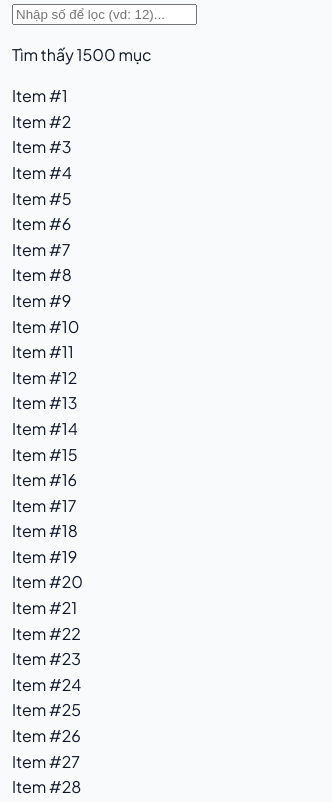
Test: 15 React Hooks + TypeScript Concise Demos › 09. useTransition: lọc danh sách 1500 items không chặn input
Expected: the text "Tìm thấy 1500 mục" is shown, [12,44,152,65]
Step 1. Type "1500" into the field with placeholder "Nhập số để lọc (vd: 12)..." → (104,14), box [12,4,197,25]
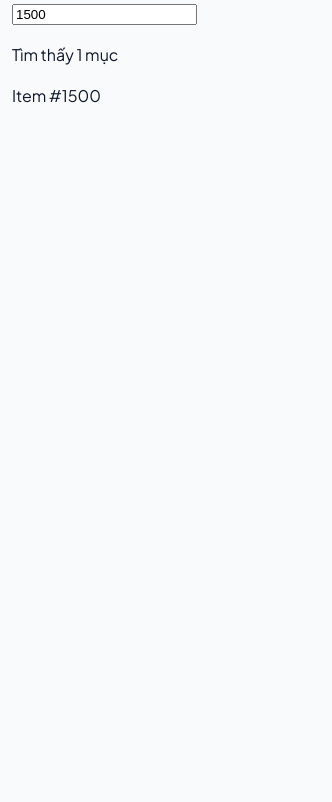
Result: the text "Tìm thấy 1 mục" is shown at [12,44,118,65]
